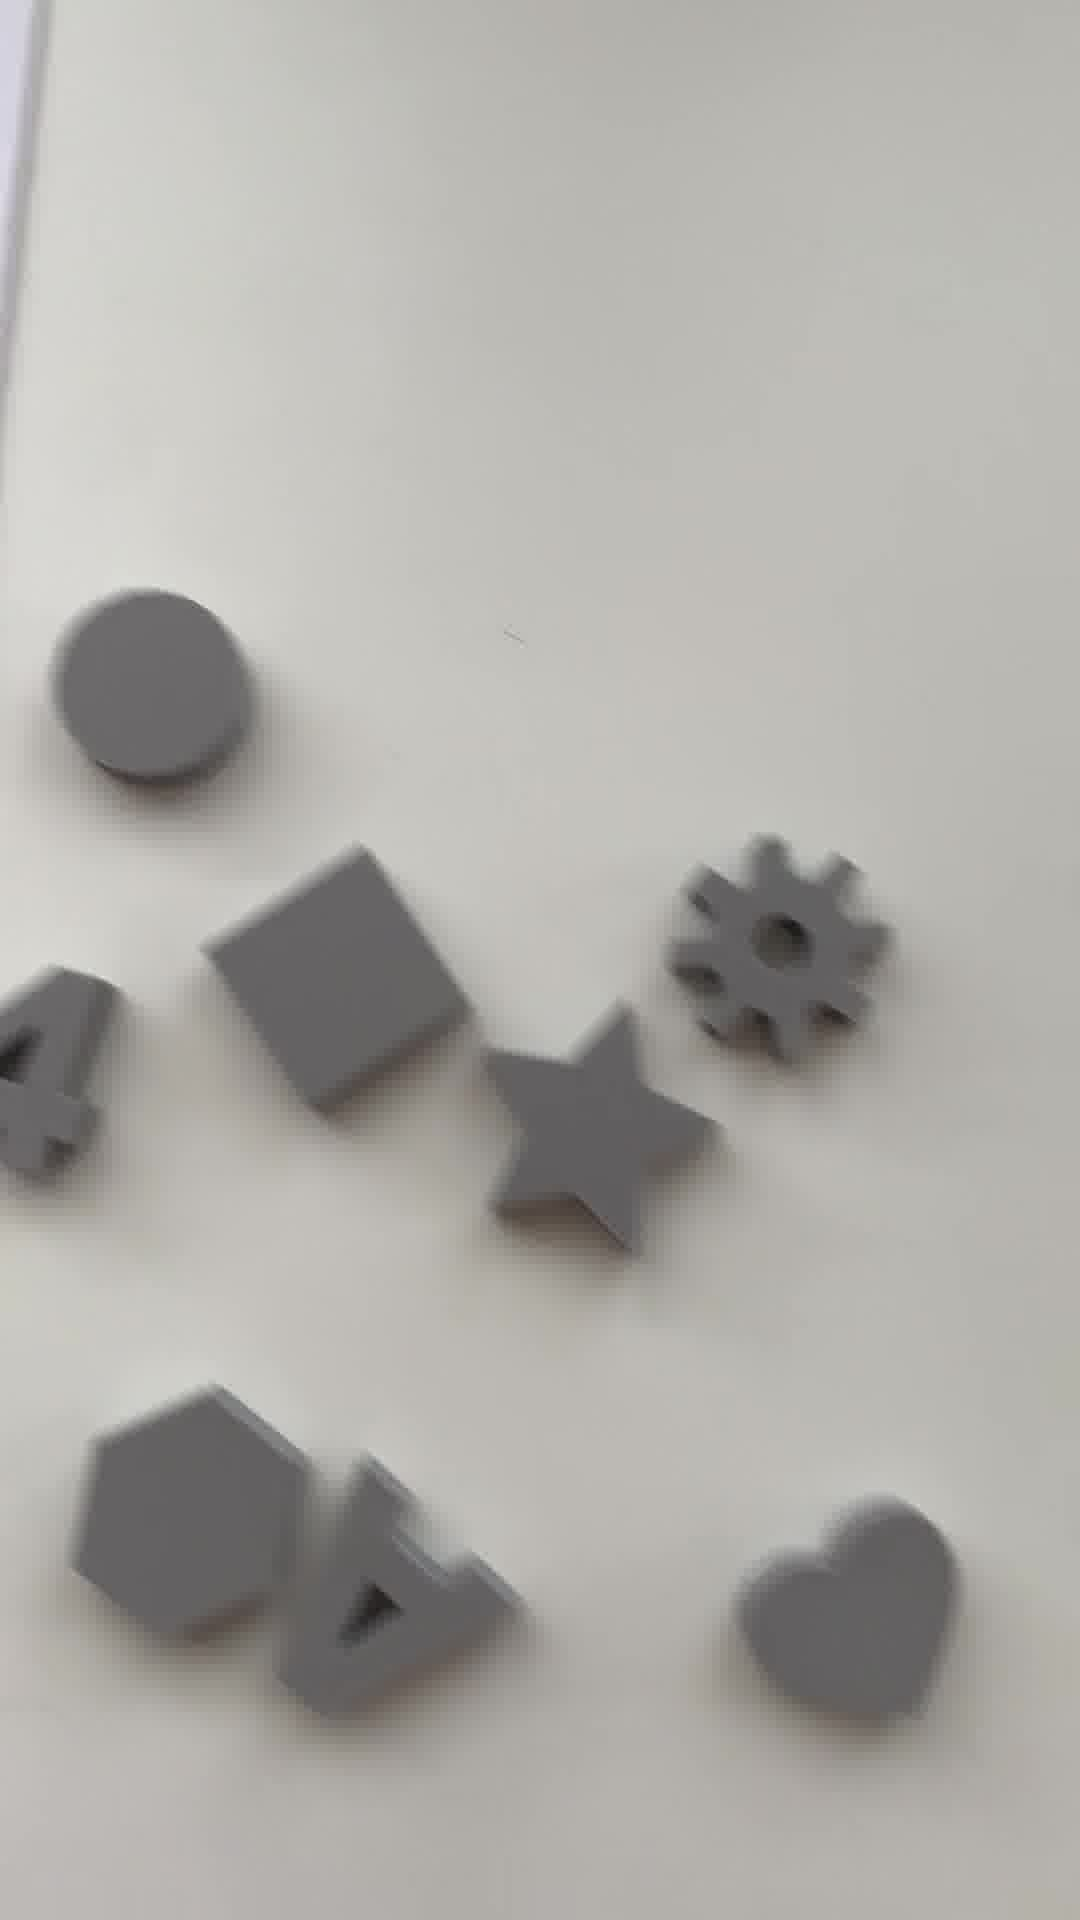Gray A-letter: (278, 1455, 543, 1716)
Gray circle: (51, 591, 264, 793)
Gray four: (1, 967, 129, 1211)
Gray gear: (684, 837, 887, 1052)
Gray heart: (725, 1506, 968, 1731)
Gray hexagon: (51, 1385, 316, 1654)
Gray square: (207, 843, 469, 1134)
Gray star: (477, 1007, 731, 1275)
